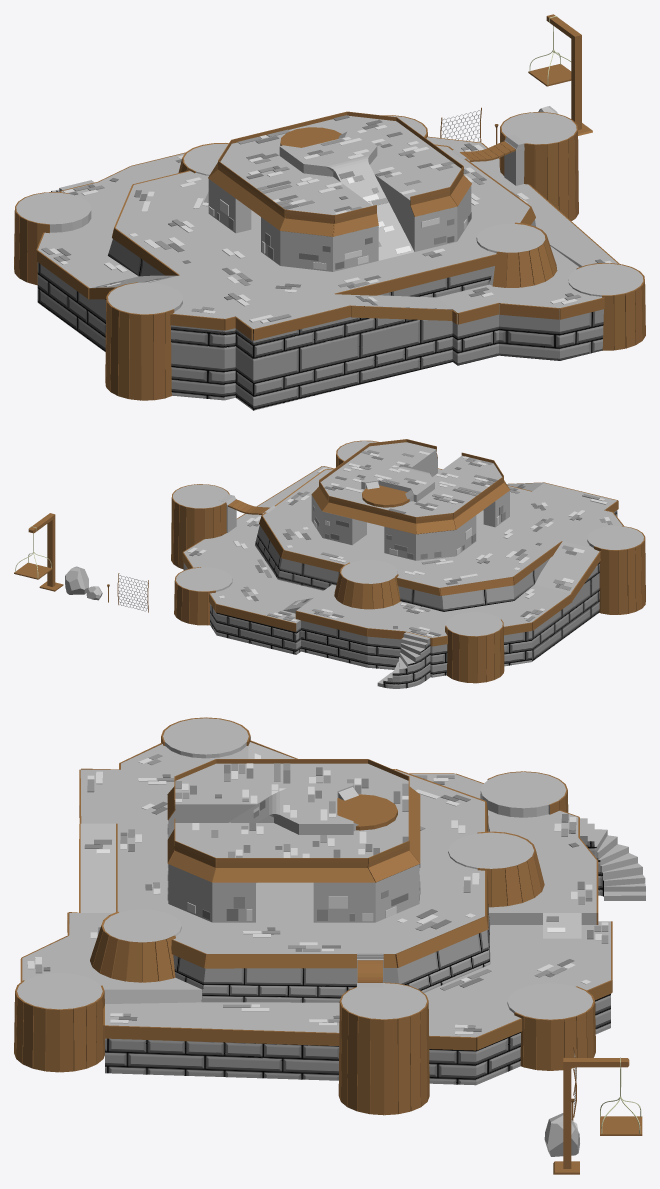
File: FORTE NUOVO FIXATO.fbx
3 views of the same model, one above another, from view 1: azimuth 30°, elevation 25°; view 2: azimuth 150°, elevation 25°; view 3: azimuth 270°, elevation 25° (orthographic). The views are drawn at different scales.
Parts seen in each view (by area): view 1: Forte, Plane; view 2: Forte, Plane, Sasso grande, Rete; view 3: Forte, Plane, Sasso grande.
Boxes of the visible parts, <box> form: Forte: <box>14,111,645,410</box>; Plane: <box>528,14,592,135</box>; Forte: <box>171,439,645,688</box>; Plane: <box>14,513,63,591</box>; Sasso grande: <box>65,566,88,594</box>; Rete: <box>117,573,148,612</box>; Forte: <box>14,717,645,1115</box>; Plane: <box>553,1057,642,1174</box>; Sasso grande: <box>544,1113,579,1156</box>.
Size of the model in its own units: 62.82 by 47.09 by 13.94.
8 materials, 1 textured.
